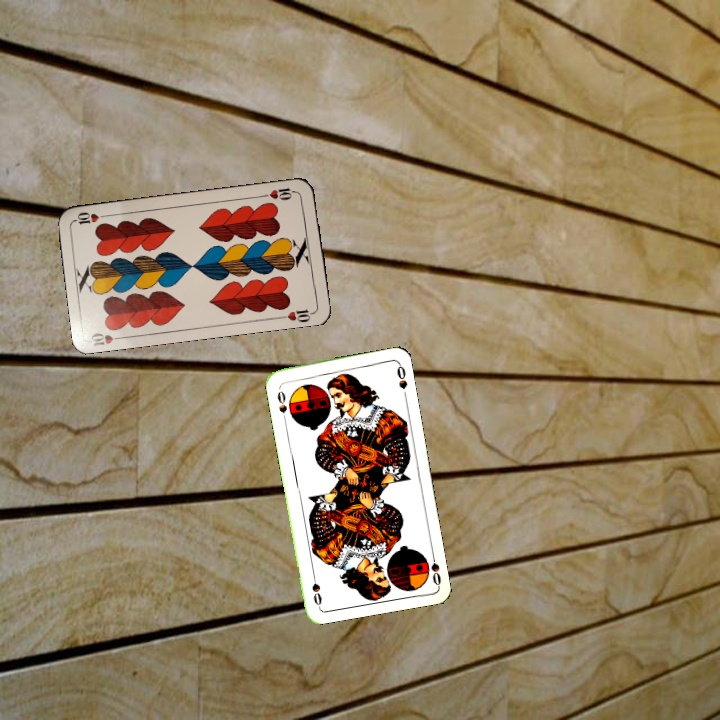H10: (259, 183, 299, 203), (87, 329, 127, 348)
SO: (427, 547, 444, 588), (273, 387, 290, 416)
